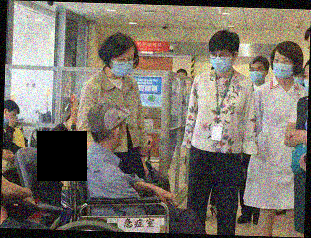with_mask: (110, 53, 136, 79), (272, 55, 294, 81), (208, 51, 233, 73), (249, 65, 265, 84), (291, 72, 305, 87)
